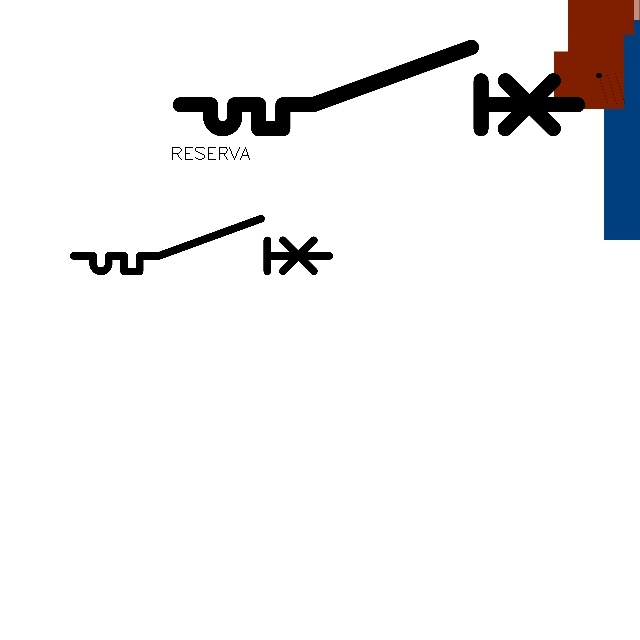interruptor_termomagnetico: (170, 37, 588, 139), (67, 212, 336, 278)
